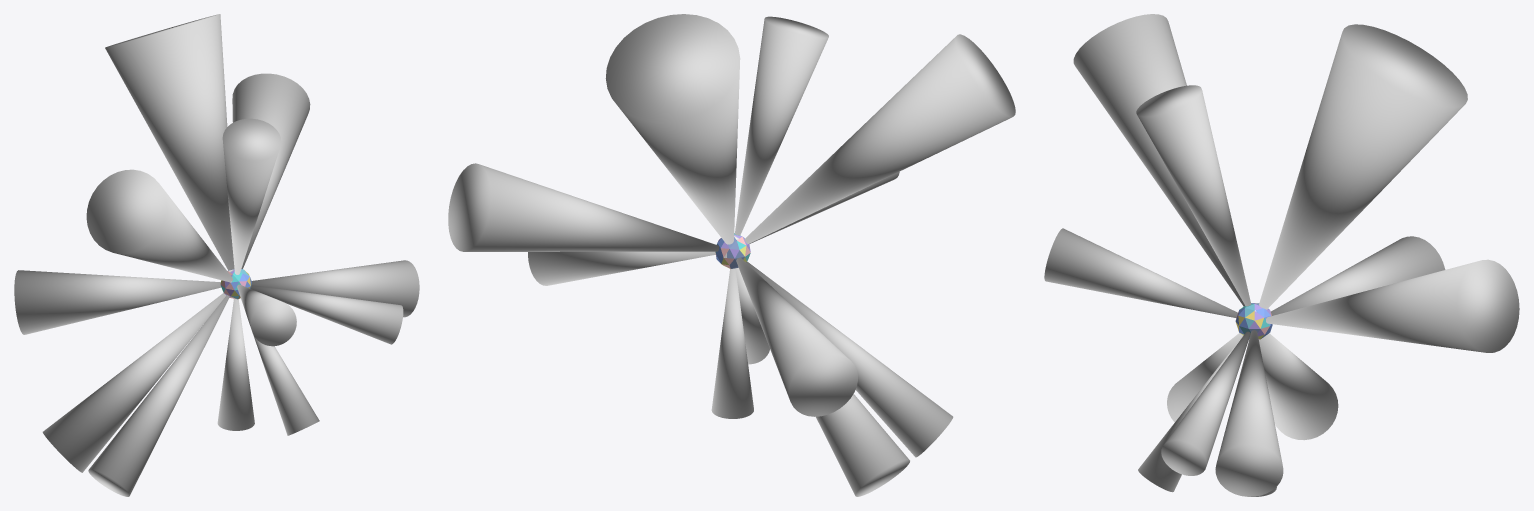
File: disco ball.fbx
The picture shows the model from 3 angles, left to right: view 1: azimuth 30°, elevation 25°; view 2: azimuth 150°, elevation 25°; view 3: azimuth 270°, elevation 25°; orthographic projection. The views are drawn at different scales.
Visible parts, largest first — view 1: Cone.016, Cone.017, Cone.004, Cone.003, Cone.002, Cone.015, Cone.012, Cone.005, Cone.014, Cone, Cone.001, Cone.013 (+1 smaller); view 2: Cone.016, Cone.017, Cone.012, Cone.015, Cone.004, Cone.002, Cone.003, Cone.005, Cone, Cone.001, Icosphere; view 3: Cone.016, Cone.012, Cone.017, Cone.015, Cone.005, Cone.013, Cone.003, Cone.004, Cone.014, Cone.002, Cone.001, Icosphere.
Boxes of the visible parts, x1,y1,x2,y2 form: Cone.016: (105, 14, 234, 270); Cone.017: (86, 169, 232, 282); Cone.004: (14, 270, 221, 334); Cone.003: (42, 293, 225, 472); Cone.002: (88, 295, 229, 496); Cone.015: (222, 118, 281, 274); Cone.012: (232, 73, 310, 268); Cone.005: (251, 260, 419, 317); Cone.014: (251, 285, 403, 344); Cone: (217, 298, 254, 430); Cone.001: (253, 335, 319, 435); Cone.013: (237, 284, 296, 346); Cone.016: (605, 14, 740, 244); Cone.017: (744, 34, 1015, 243); Cone.012: (448, 163, 719, 251); Cone.015: (734, 16, 828, 235); Cone.004: (736, 257, 857, 416); Cone.002: (746, 261, 953, 457); Cone.003: (816, 394, 909, 496); Cone.005: (528, 251, 715, 285); Cone: (711, 268, 753, 418); Cone.001: (735, 267, 769, 364); Icosphere: (715, 233, 750, 268); Cone.016: (1259, 24, 1467, 309); Cone.012: (1266, 259, 1519, 352); Cone.017: (1073, 14, 1244, 306); Cone.015: (1136, 85, 1251, 306); Cone.005: (1215, 330, 1283, 496); Cone.013: (1044, 228, 1237, 317); Cone.003: (1259, 333, 1338, 440); Cone.004: (1271, 236, 1445, 315); Cone.014: (1161, 331, 1250, 475); Cone.002: (1167, 333, 1242, 422); Cone.001: (1138, 335, 1243, 492); Icosphere: (1235, 303, 1272, 339).
Bounding box in the file's own units: 13099 × 13754 × 12377.
